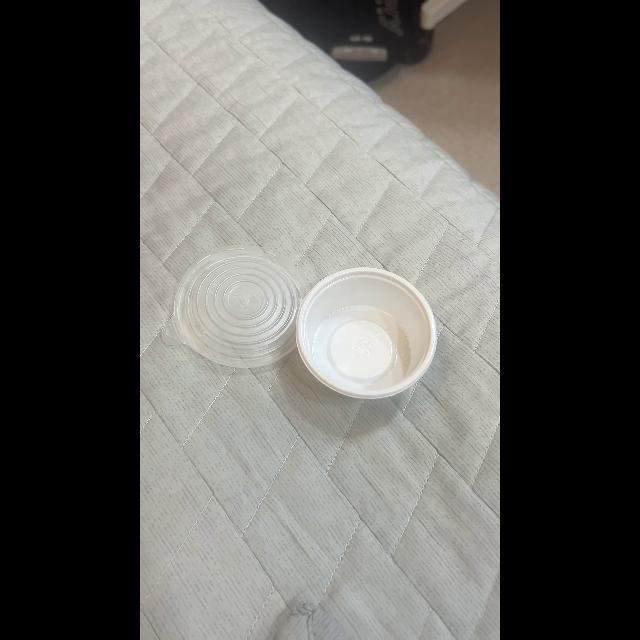clean: (295, 268, 437, 397), (172, 248, 308, 366)
